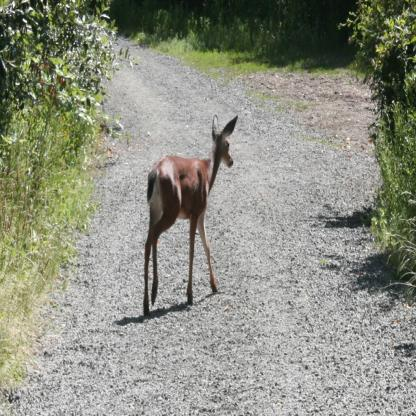Deer: (141, 114, 237, 318)
